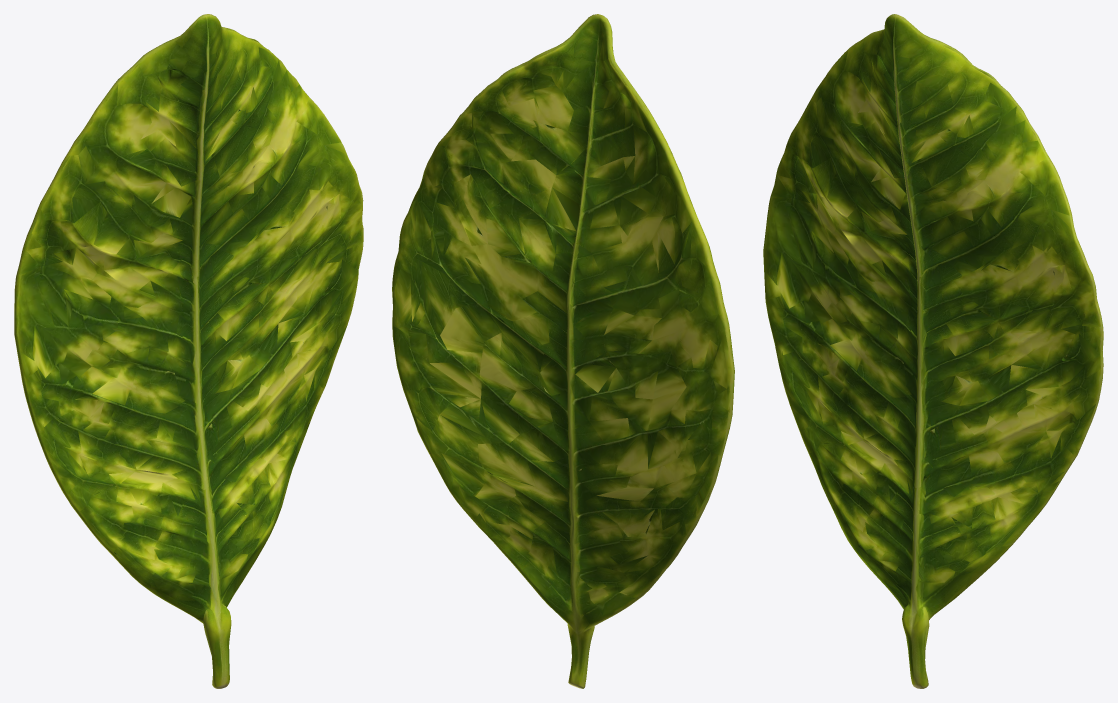
The model's file is orange_huanglongbing.glb.
3 views of the same model, side by side, from view 1: azimuth 30°, elevation 25°; view 2: azimuth 150°, elevation 25°; view 3: azimuth 330°, elevation 25° (orthographic).
Visible parts, largest first — view 1: orange_huanglongbing; view 2: orange_huanglongbing; view 3: orange_huanglongbing.
Part boxes in pixels (x1=…): orange_huanglongbing: x1=14, y1=14, x2=363, y2=688; orange_huanglongbing: x1=392, y1=14, x2=734, y2=688; orange_huanglongbing: x1=763, y1=14, x2=1103, y2=688.
Bounding box in the file's own units: 0.5326 × 1 × 0.0995.
1 material, 1 textured.
